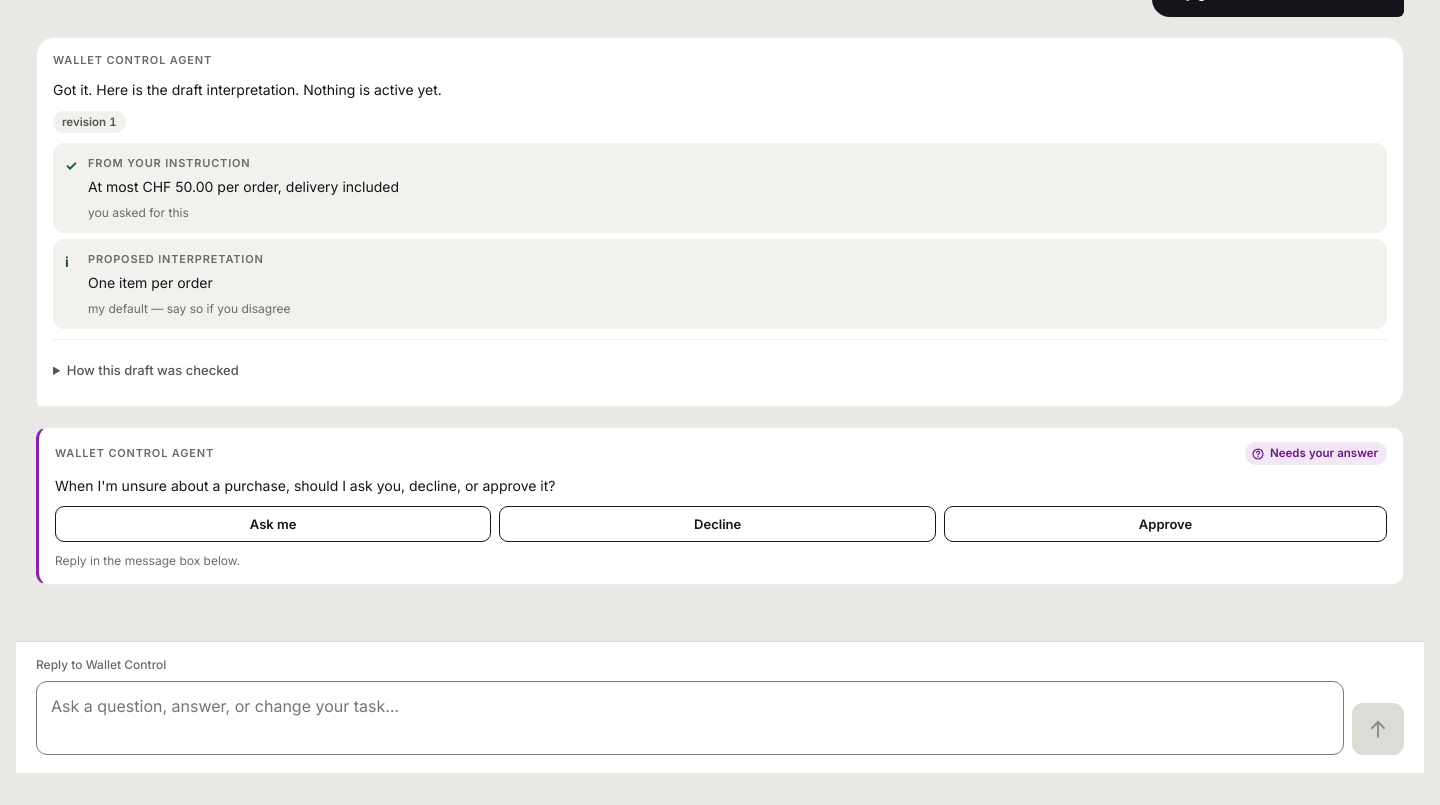
Test: keeps the mandate instruction visible and answers ordinary conversation without changing it
(page scrolled)
Type "why are you asking?" into the text box at (690, 718), box 36,681 -> 1344,755
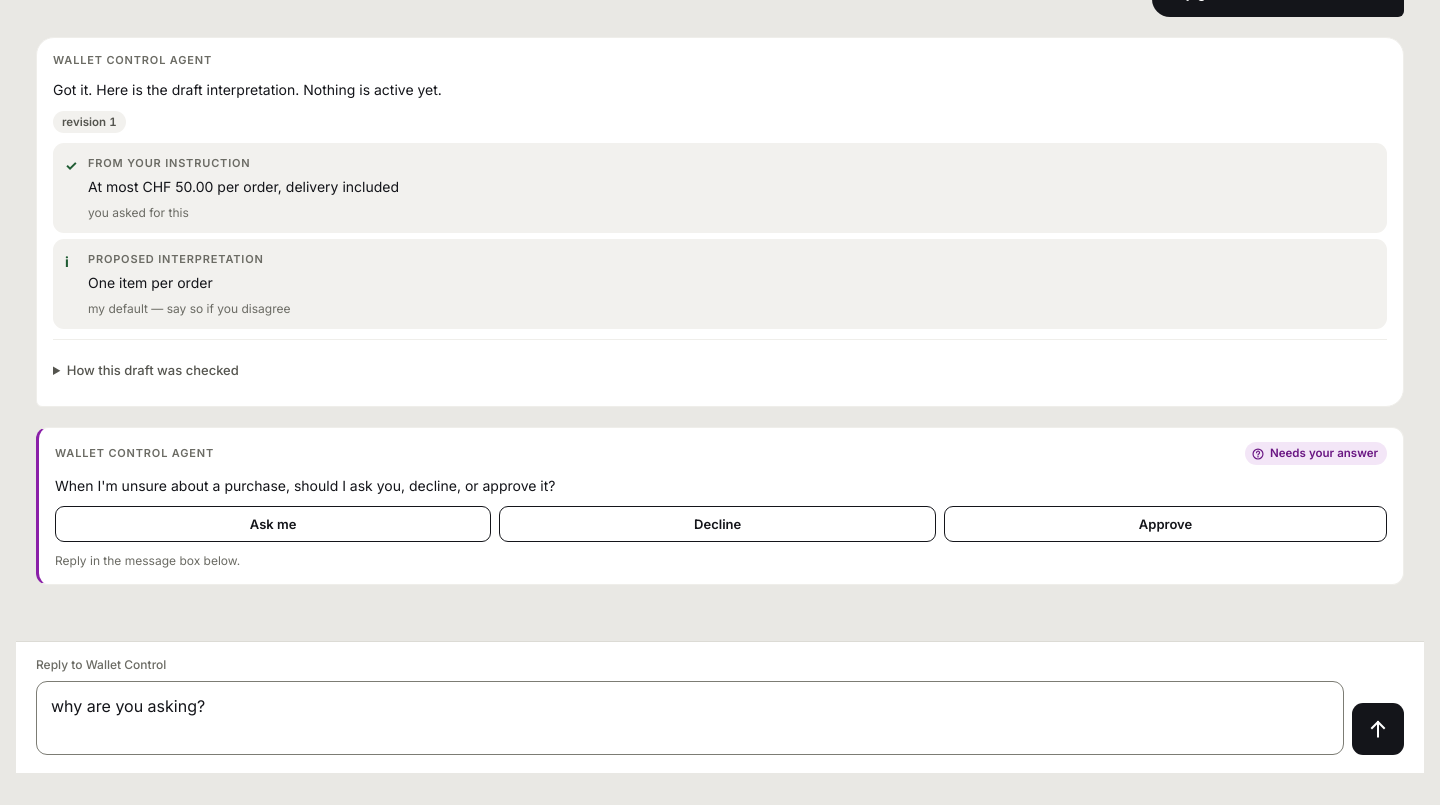
Click the button named "Send" at (1378, 729), box 1352,703 -> 1404,755
(page scrolled)
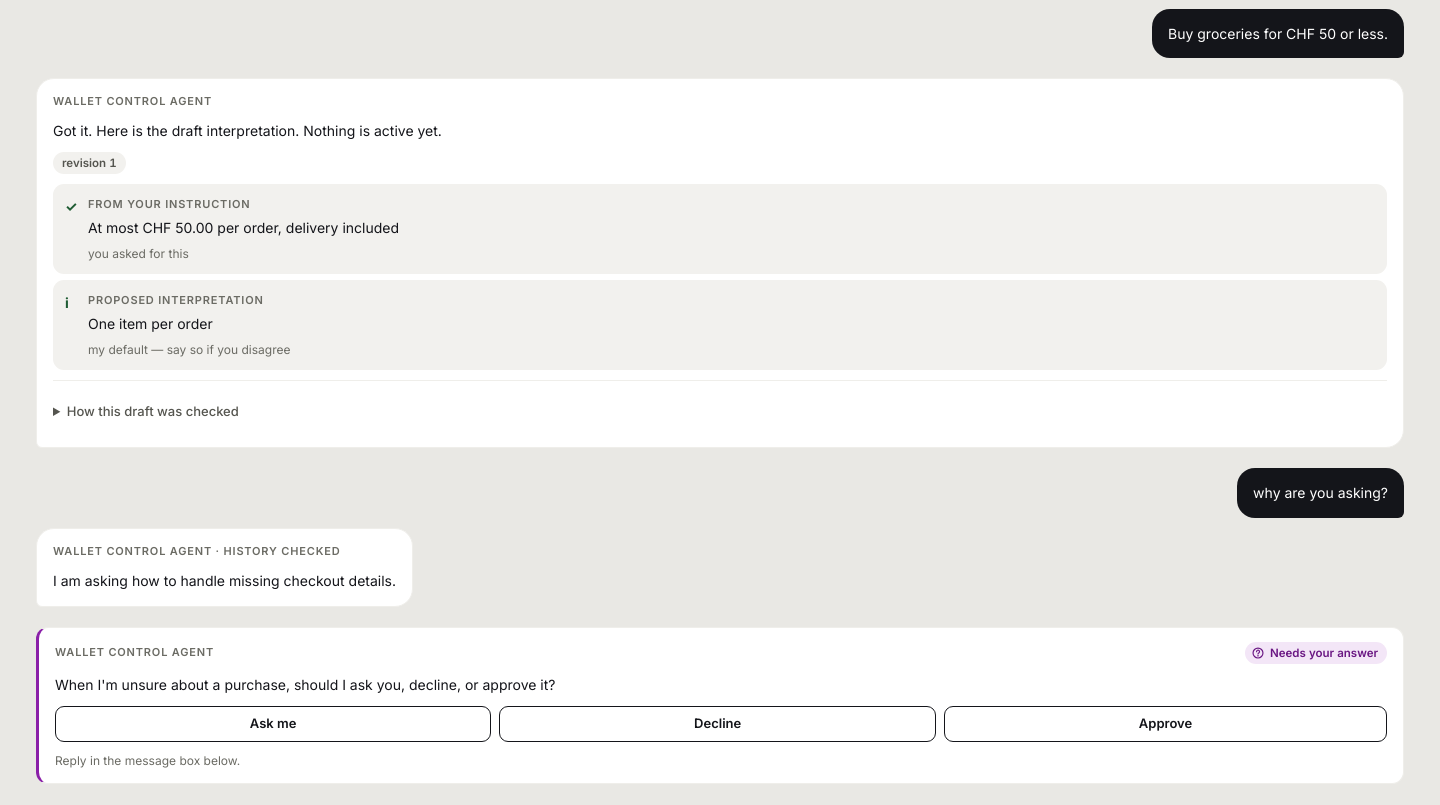
Now the text "I am asking how to handle missing checkout details." is shown, box 53,570 -> 396,592
